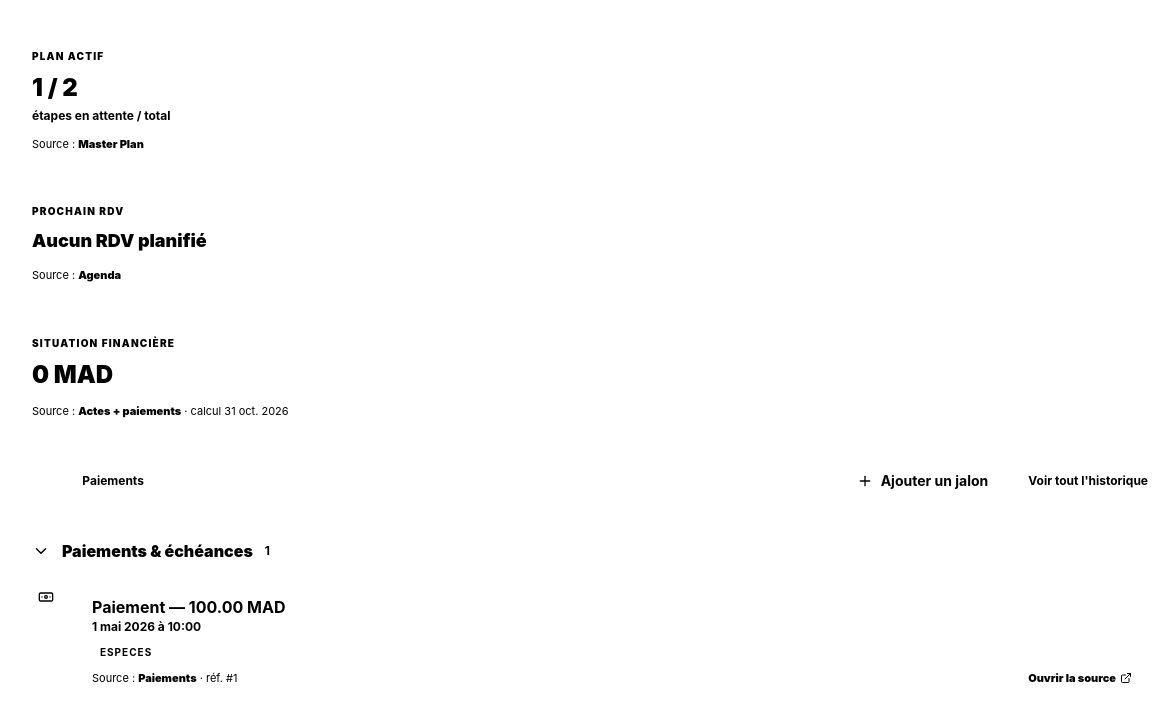
it: PatientJourney › navigates to the accounting tab when clicking a payment event
This screenshot has width=1176, height=720.
(page scrolled)
Click the text "Paiement — 100.00 MAD".
click(189, 607)  # box [92, 597, 286, 617]
(page scrolled)
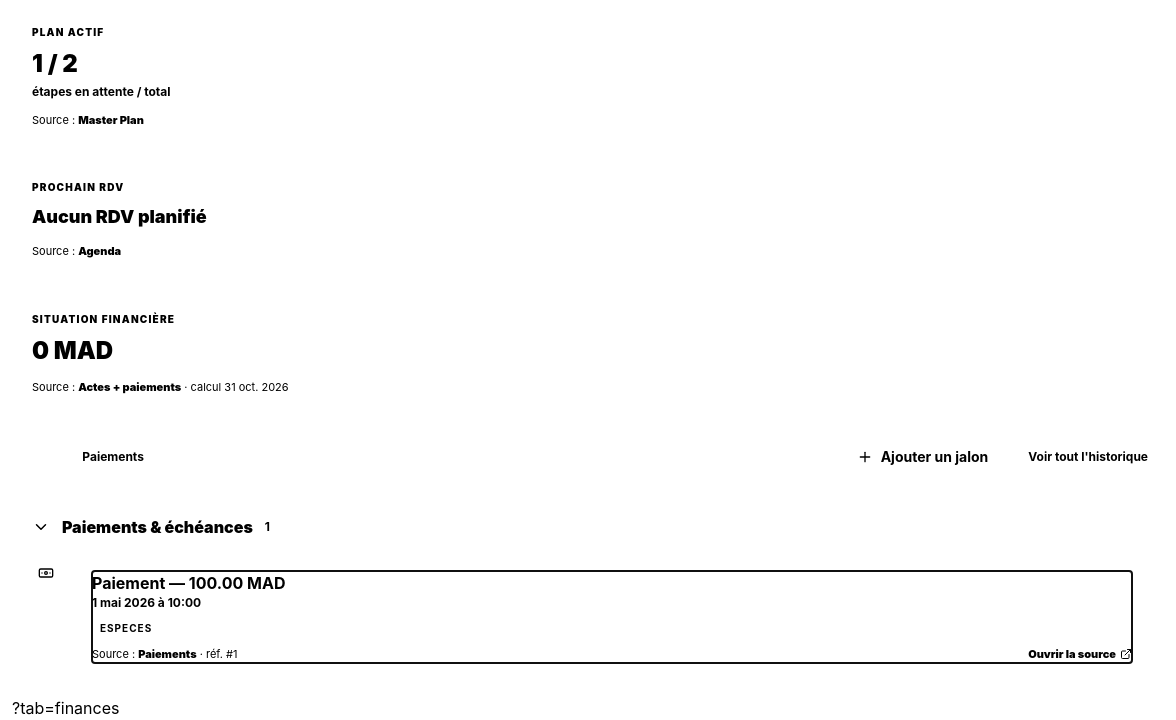
Check: the text with test id "location-search" shows "tab=finances", box [12, 698, 120, 718]
